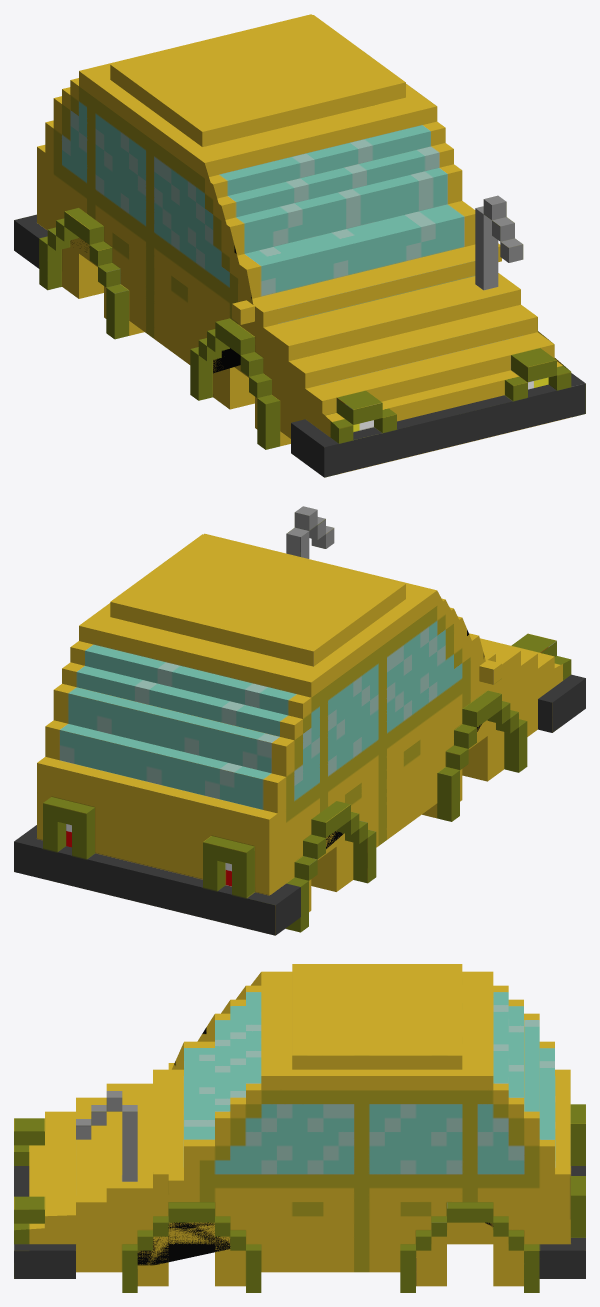
File: Car_Var2_3.obj
3 views of the same model, one above another, from view 1: azimuth 30°, elevation 25°; view 2: azimuth 150°, elevation 25°; view 3: azimuth 270°, elevation 25° (orthographic). The views are drawn at different scales.
Parts seen in each view (by area): view 1: Car_Var2_3_Car_Var2_3.001; view 2: Car_Var2_3_Car_Var2_3.001; view 3: Car_Var2_3_Car_Var2_3.001.
Part boxes in pixels (<box>): Car_Var2_3_Car_Var2_3.001: <box>14,14,585,477</box>; Car_Var2_3_Car_Var2_3.001: <box>14,506,585,935</box>; Car_Var2_3_Car_Var2_3.001: <box>14,964,585,1292</box>.
Size of the model in its own units: 1.8 by 1.6 by 3.7.
